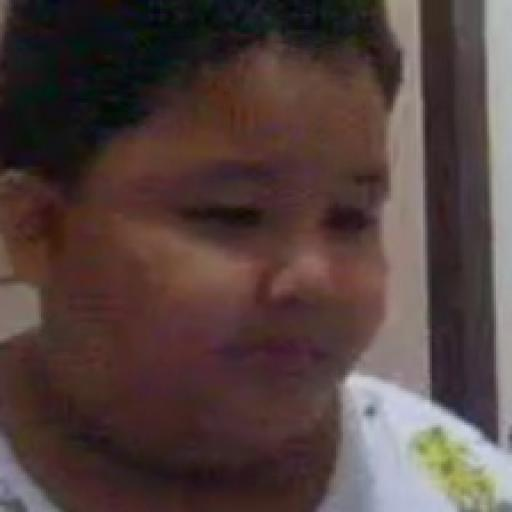Autism: (0, 27, 446, 503)
